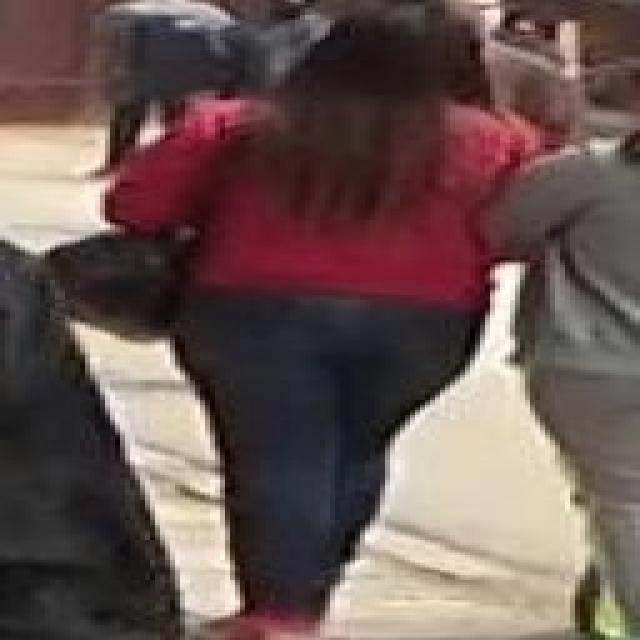adult: (77, 11, 508, 639), (505, 84, 640, 638), (89, 0, 231, 165)
